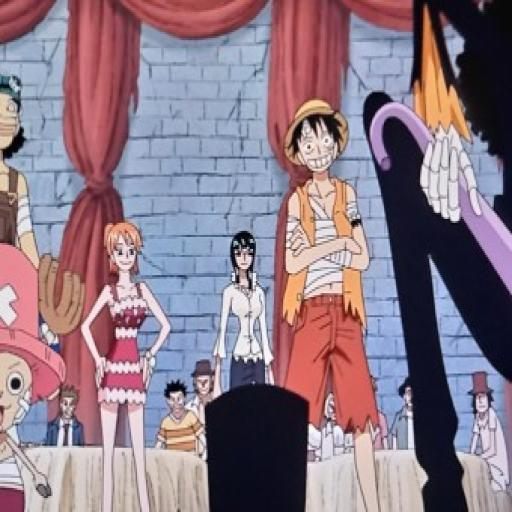Luffy: (282, 98, 350, 170)
Nami: (102, 221, 147, 280)
NicoRobin: (228, 231, 264, 281)
Usopp: (0, 74, 33, 156)
